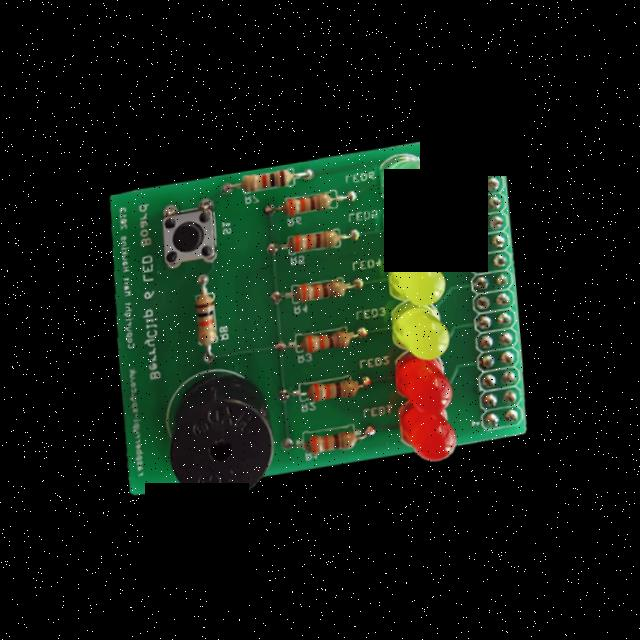2235: (153, 201, 224, 270)
LED: (387, 248, 450, 313), (398, 416, 466, 474), (398, 367, 458, 427), (368, 158, 437, 210), (394, 308, 454, 365), (382, 202, 442, 258)
buzzer: (158, 371, 283, 513)
resistor IR1: (284, 222, 358, 270), (232, 165, 308, 201), (186, 279, 220, 356), (300, 423, 365, 463), (302, 372, 365, 413), (292, 277, 353, 317), (280, 193, 346, 228), (294, 326, 357, 361)
